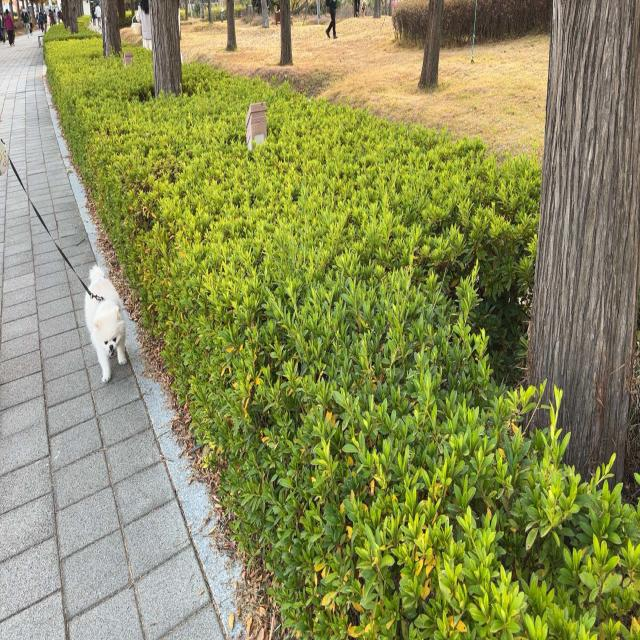Dog: (84, 264, 128, 385)
